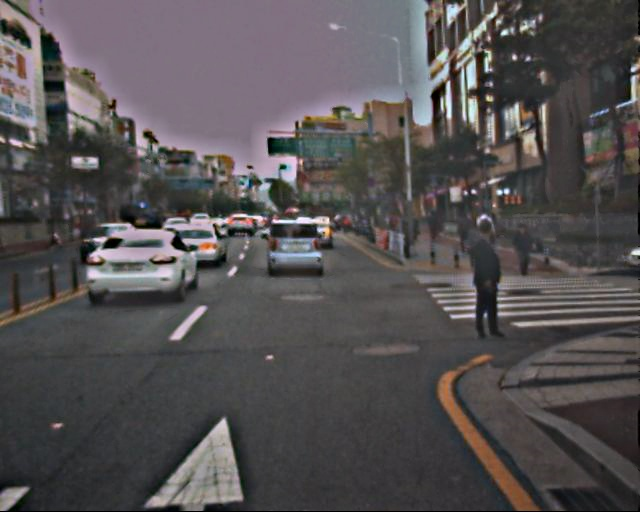person: (460, 220, 508, 336), (514, 220, 537, 276), (474, 210, 496, 264), (456, 212, 473, 253)
